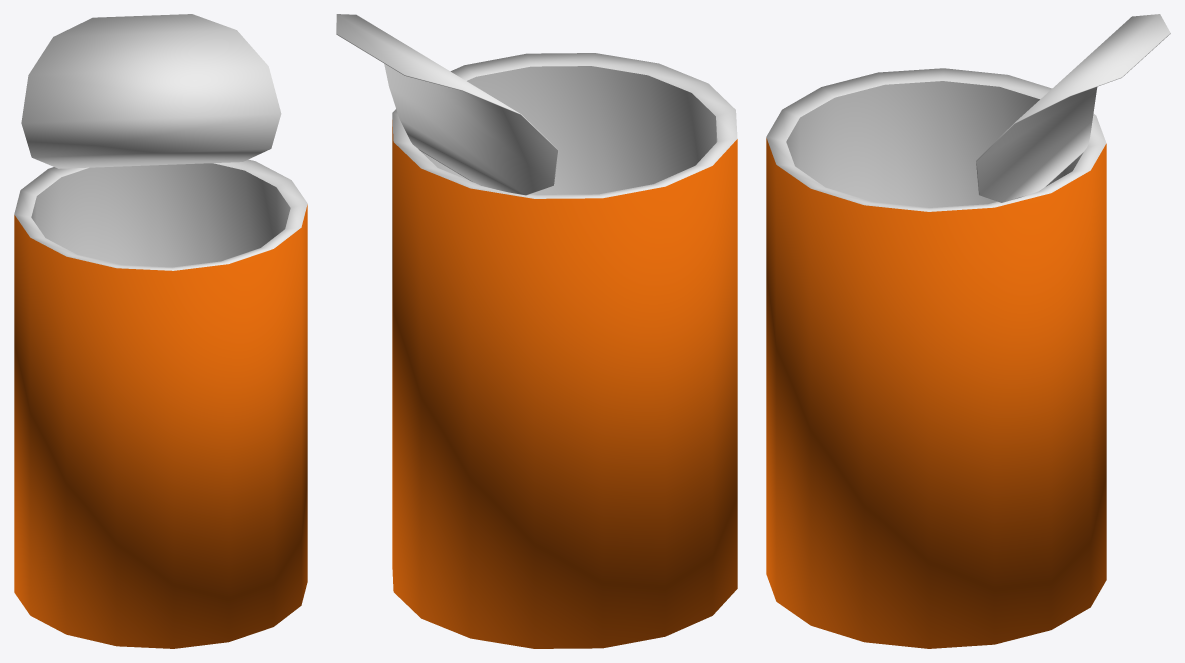
Rendered from SP_TrashTin01.fbx.
The picture shows the model from 3 angles, left to right: view 1: azimuth 30°, elevation 25°; view 2: azimuth 150°, elevation 25°; view 3: azimuth 270°, elevation 25°; orthographic projection. The views are drawn at different scales.
Parts seen in each view (by area): view 1: SP_TrashTin01; view 2: SP_TrashTin01; view 3: SP_TrashTin01.
Boxes of the visible parts, x1=… form: SP_TrashTin01: x1=14, y1=14, x2=307, y2=648; SP_TrashTin01: x1=336, y1=14, x2=737, y2=648; SP_TrashTin01: x1=766, y1=14, x2=1170, y2=648.
Size of the model in its own units: 0.0912 by 0.1578 by 0.1028.
